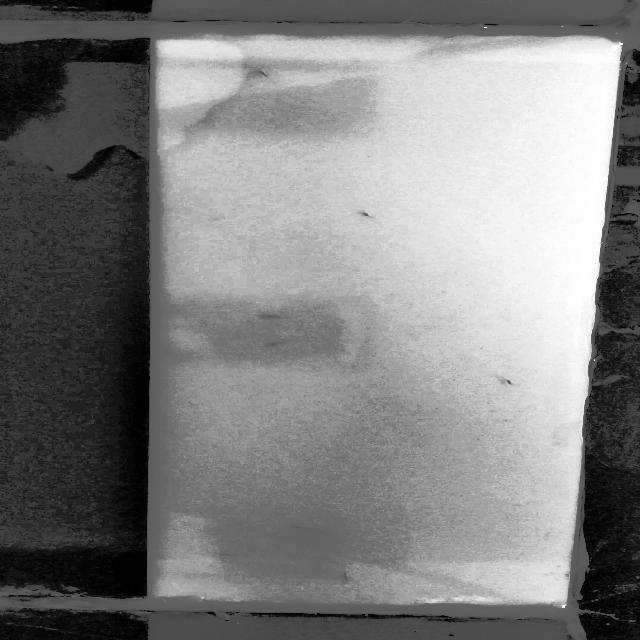shrimp: (335, 567, 356, 584), (286, 522, 314, 533), (252, 312, 284, 321), (260, 339, 285, 349), (216, 552, 241, 561), (253, 68, 274, 78), (506, 377, 524, 388), (363, 208, 379, 220)
